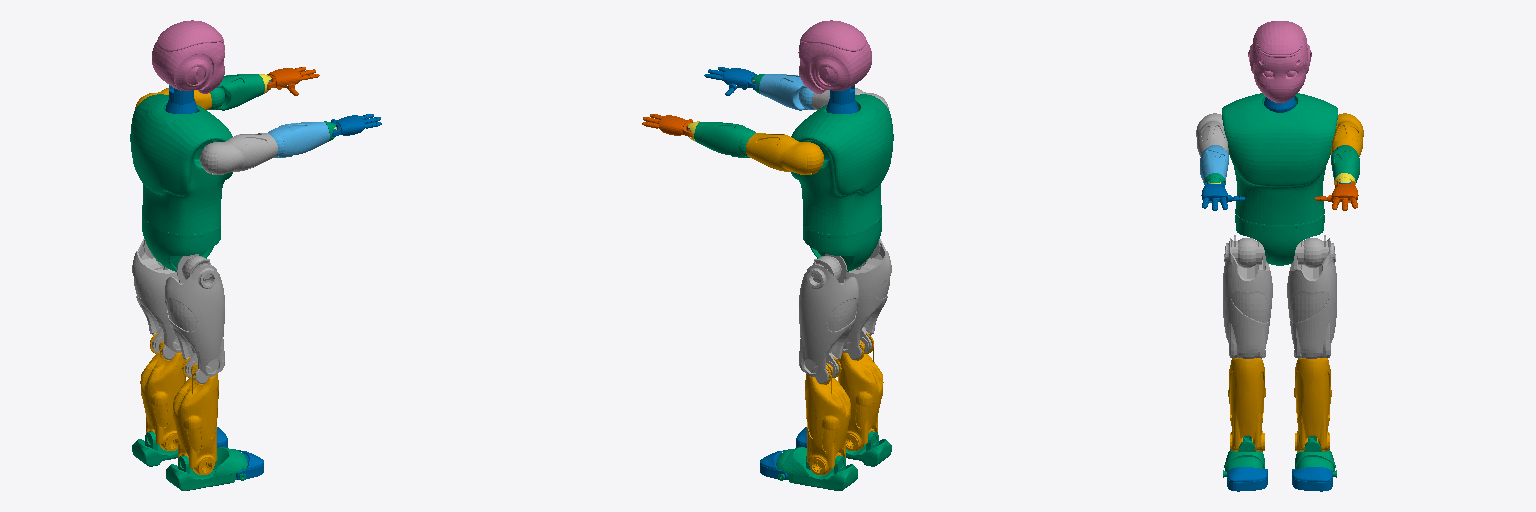
--- Render facts (derived) ---
The picture shows the robot from 3 angles, left to right: view 1: azimuth 30°, elevation 25°; view 2: azimuth 150°, elevation 25°; view 3: azimuth 270°, elevation 25°; orthographic projection.
Model romeo with 37 links and 36 joints (33 revolute, 3 fixed), rooted at base_link, posed every joint at zero.
Visible links, largest first — view 1: torso, RHipPitch_link, HeadRoll_link, RKneePitch_link, LKneePitch_link, LHipPitch_link, RShoulderYaw_link, r_ankle, RElbowYaw_link, LElbowYaw_link, l_ankle, l_wrist (+2 smaller); view 2: torso, LHipPitch_link, HeadRoll_link, LKneePitch_link, RKneePitch_link, RHipPitch_link, LShoulderYaw_link, l_ankle, LElbowYaw_link, RElbowYaw_link, r_ankle, r_wrist (+2 smaller); view 3: torso, LHipPitch_link, RHipPitch_link, HeadRoll_link, LKneePitch_link, RKneePitch_link, LShoulderYaw_link, RShoulderYaw_link, l_toe, r_toe, l_ankle, r_ankle (+4 smaller).
Link boxes in pixels (x1,y1,x2,y2): torso: (130, 94, 232, 271); RHipPitch_link: (165, 254, 224, 383); HeadRoll_link: (152, 20, 224, 93); RKneePitch_link: (173, 357, 218, 474); LKneePitch_link: (140, 333, 185, 450); LHipPitch_link: (132, 239, 180, 359); RShoulderYaw_link: (200, 133, 277, 174); r_ankle: (166, 447, 247, 490); RElbowYaw_link: (268, 122, 329, 157); LElbowYaw_link: (209, 74, 264, 110); l_ankle: (132, 431, 177, 466); l_wrist: (267, 67, 319, 95); torso: (791, 94, 893, 271); LHipPitch_link: (799, 254, 858, 383); HeadRoll_link: (798, 20, 871, 93); LKneePitch_link: (805, 357, 850, 474); RKneePitch_link: (838, 333, 883, 450); RHipPitch_link: (843, 239, 891, 359); LShoulderYaw_link: (746, 133, 823, 174); l_ankle: (776, 447, 857, 490); LElbowYaw_link: (694, 122, 755, 157); RElbowYaw_link: (759, 74, 814, 110); r_ankle: (846, 431, 891, 466); r_wrist: (704, 67, 756, 95); torso: (1222, 93, 1337, 265); LHipPitch_link: (1287, 235, 1336, 358); RHipPitch_link: (1223, 235, 1272, 358); HeadRoll_link: (1248, 21, 1311, 102); LKneePitch_link: (1294, 358, 1331, 451); RKneePitch_link: (1228, 358, 1265, 451); LShoulderYaw_link: (1331, 113, 1363, 156); RShoulderYaw_link: (1196, 113, 1228, 156); l_toe: (1292, 467, 1332, 491); r_toe: (1227, 467, 1267, 491); l_ankle: (1295, 436, 1336, 477); r_ankle: (1223, 436, 1264, 477).
Size in the robot's own frame: 0.6969 by 0.4903 by 1.43 metres.
21 mesh visuals loaded from 20 distinct referenced files (20 Collada DAE).

robot.urdf — romeo:
<?xml version="1.0"?>
<!--
   Aldebaran Robotics Romeo URDF model

   FIXME: fill missing data: sole, gripper and sensors
  -->
<robot xmlns:xacro="http://ros.org/wiki/xacro" name="romeo">
  <link name="base_link"/>

  <link name="body">
    <inertial>
      <origin xyz="0.00932 0.0005 -0.2119" rpy="0 0 0"/>
      <mass value="4.16277"/>
      <inertia ixx="0.24187936706" ixy="-6.889635e-05" ixz="0.00282915469" iyy="0.23816771319" iyz="0.00030625215" izz="0.02147385599" />
    </inertial>
  </link>

  <link name="torso">
    <inertial>
      <origin xyz="0.0023 0.00038 -0.04854" rpy="0 0 0"/>
      <mass value="9.9216"/>
      <inertia ixx="0.12933235299" ixy="-0.00035965149" ixz="0.00283888003" iyy="0.12683108985" iyz="-0.00200842624" izz="0.11062739082" />
    </inertial>
    <visual>
      <origin xyz="0 0 0" rpy="0 0 0" />
      <geometry>
	<mesh filename="package://romeo_description/meshes/Torso.dae" />
      </geometry>
    </visual>
    <collision>
      <origin xyz="0 0 0" rpy="0 0 0" />
      <geometry>
	<mesh filename="package://romeo_description/meshes/Torso.dae" />
      </geometry>
    </collision>
  </link>

  <link name="NeckYaw_link">
    <inertial>
      <origin xyz="0 -0.00183 -0.03074" rpy="0 0 0"/>
      <mass value="0.51016"/>
      <inertia ixx="0.00122158912" ixy="-8.014e-08" ixz="1.145e-08" iyy="0.00124607826" iyz="-1.84095e-06" izz="0.00018796505" />
    </inertial>
  </link>

  <link name="NeckPitch_link">
    <inertial>
      <origin xyz="-0.00472 -0.00054 0.04432" rpy="0 0 0"/>
      <mass value="0.23875"/>
      <inertia ixx="0.0008660225" ixy="-1.57263e-06" ixz="6.138255e-05" iyy="0.00081828666" iyz="9.69515e-06" izz="0.00023891895" />
    </inertial>
    <visual>
      <origin xyz="0 0 0" rpy="0 0 0" />
      <geometry>
	<mesh filename="package://romeo_description/meshes/NeckPitch.dae" />
      </geometry>
    </visual>
    <collision>
      <origin xyz="0 0 0" rpy="0 0 0" />
      <geometry>
	<mesh filename="package://romeo_description/meshes/NeckPitch.dae" />
      </geometry>
    </collision>
  </link>

  <link name="HeadPitch_link">
    <inertial>
      <origin xyz="0.00137 0.00027 -0.00641" rpy="0 0 0"/>
      <mass value="0.13981"/>
      <inertia ixx="3.89601e-05" ixy="-3.814e-08" ixz="-2.29622e-06" iyy="7.254653e-05" iyz="-6.46e-09" izz="5.376501e-05" />
    </inertial>
  </link>

  <link name="HeadRoll_link">
    <inertial>
      <origin xyz="0.01617 0.00168 0.0757" rpy="0 0 0"/>
      <mass value="1.41282"/>
      <inertia ixx="0.01490874108" ixy="-5.142093e-05" ixz="-0.00068489344" iyy="0.01731891079" iyz="-0.00019152738" izz="0.00735474589" />
    </inertial>
    <visual>
      <origin xyz="0 0 0" rpy="0 0 0" />
      <geometry>
	<mesh filename="package://romeo_description/meshes/HeadRoll.dae" />
      </geometry>
    </visual>
    <collision>
      <origin xyz="0 0 0" rpy="0 0 0" />
      <geometry>
	<mesh filename="package://romeo_description/meshes/HeadRoll.dae" />
      </geometry>
    </collision>
  </link>

  <link name="LShoulderPitch_link">
    <inertial>
      <origin xyz="0.00149 -0.03299 0.00018" rpy="0 0 0"/>
      <mass value="0.69402"/>
      <inertia ixx="0.00201004114" ixy="2.37595e-06" ixz="-2.16793e-06" iyy="0.00057062588" iyz="8.27832e-06" izz="0.00194067879" />
    </inertial>
  </link>

  <link name="LShoulderYaw_link">
    <inertial>
      <origin xyz="0.09367 0.01373 0.00103" rpy="0 0 0"/>
      <mass value="0.57151"/>
      <inertia ixx="0.00074281758" ixy="-0.00061767526" ixz="-7.28438e-05" iyy="0.00650202304" iyz="-1.251569e-05" izz="0.00664433886" />
    </inertial>
    <visual>
      <origin xyz="0 0 0" rpy="0 0 0" />
      <geometry>
	<mesh filename="package://romeo_description/meshes/LShoulderYaw.dae" />
      </geometry>
    </visual>
    <collision>
      <origin xyz="0 0 0" rpy="0 0 0" />
      <geometry>
	<mesh filename="package://romeo_description/meshes/LShoulderYaw.dae" />
      </geometry>
    </collision>
  </link>

  <link name="LElbowRoll_link">
    <inertial>
      <origin xyz="-0.02231 -0.0024 0" rpy="0 0 0"/>
      <mass value="0.39848"/>
      <inertia ixx="0.00017900324" ixy="-2.25555e-06" ixz="1.376e-08" iyy="0.00080432225" iyz="8.007e-08" izz="0.00077956048" />
    </inertial>
  </link>

  <link name="LElbowYaw_link">
    <inertial>
      <origin xyz="0.06738 0.01043 -0.00031" rpy="0 0 0"/>
      <mass value="0.31265"/>
      <inertia ixx="0.00037509574" ixy="-0.00022528338" ixz="2.58073e-06" iyy="0.00209727597" iyz="2.74613e-06" izz="0.00211064798" />
    </inertial>
    <visual>
      <origin xyz="0 0 0" rpy="0 0 0" />
      <geometry>
	<mesh filename="package://romeo_description/meshes/LElbowYaw.dae" />
      </geometry>
    </visual>
    <collision>
      <origin xyz="0 0 0" rpy="0 0 0" />
      <geometry>
	<mesh filename="package://romeo_description/meshes/LElbowYaw.dae" />
      </geometry>
    </collision>
  </link>

  <link name="LWristRoll_link">
    <inertial>
      <origin xyz="-0.0593 -5e-05 -0.00069" rpy="0 0 0"/>
      <mass value="0.17563"/>
      <inertia ixx="6.721454e-05" ixy="-6.373e-07" ixz="-1.358095e-05" iyy="0.00085119568" iyz="-2.443e-08" izz="0.00084034753" />
    </inertial>
    <visual>
      <origin xyz="0 0 0" rpy="0 0 0" />
      <geometry>
	<mesh filename="package://romeo_description/meshes/LWristRoll.dae" />
      </geometry>
    </visual>
    <collision>
      <origin xyz="0 0 0" rpy="0 0 0" />
      <geometry>
	<mesh filename="package://romeo_description/meshes/LWristRoll.dae" />
      </geometry>
    </collision>
  </link>

  <link name="LWristYaw_link">
    <inertial>
      <origin xyz="-0.00746 -0.00016 -0.00022" rpy="0 0 0"/>
      <mass value="0.07595"/>
      <inertia ixx="1.454017e-05" ixy="-4.157e-08" ixz="7.674e-08" iyy="3.919069e-05" iyz="3.08e-09" izz="3.817871e-05" />
    </inertial>
    <visual>
      <origin xyz="0 0 0" rpy="0 0 0" />
      <geometry>
	<mesh filename="package://romeo_description/meshes/WristYaw.dae" />
      </geometry>
    </visual>
    <collision>
      <origin xyz="0 0 0" rpy="0 0 0" />
      <geometry>
	<mesh filename="package://romeo_description/meshes/WristYaw.dae" />
      </geometry>
    </collision>
  </link>

  <link name="l_wrist">
    <inertial>
      <origin xyz="0.06987 -0.00381 -0.00165" rpy="0 0 0"/>
      <mass value="0.16569"/>
      <inertia ixx="0.00011252888" ixy="4.725831e-05" ixz="1.704036e-05" iyy="0.00107981778" iyz="-1.54761e-05" izz="0.00115367043" />
    </inertial>
    <visual>
      <origin xyz="0 0 0" rpy="0 0 0" />
      <geometry>
	<mesh filename="package://romeo_description/meshes/LHand.dae" />
      </geometry>
    </visual>
    <collision>
      <origin xyz="0 0 0" rpy="0 0 0" />
      <geometry>
	<mesh filename="package://romeo_description/meshes/LHand.dae" />
      </geometry>
    </collision>
  </link>

  <link name="RShoulderPitch_link">
    <inertial>
      <origin xyz="0.00149 0.03299 -0.00018" rpy="0 0 0"/>
      <mass value="0.69402"/>
      <inertia ixx="0.00201004114" ixy="-2.37595e-06" ixz="2.16793e-06" iyy="0.00057062588" iyz="8.27832e-06" izz="0.00194067879" />
    </inertial>
  </link>

  <link name="RShoulderYaw_link">
    <inertial>
      <origin xyz="0.0937 -0.01373 -0.00069" rpy="0 0 0"/>
      <mass value="0.57071"/>
      <inertia ixx="0.00074235595" ixy="0.00061720176" ixz="5.985213e-06" iyy="0.00649988502" iyz="-1.074174e-06" izz="0.000664209089" />
    </inertial>
    <visual>
      <origin xyz="0 0 0" rpy="0 0 0" />
      <geometry>
	<mesh filename="package://romeo_description/meshes/RShoulderYaw.dae" />
      </geometry>
    </visual>
    <collision>
      <origin xyz="0 0 0" rpy="0 0 0" />
      <geometry>
	<mesh filename="package://romeo_description/meshes/RShoulderYaw.dae" />
      </geometry>
    </collision>
  </link>

  <link name="RElbowRoll_link">
    <inertial>
      <origin xyz="-0.02231 -0.0024 0" rpy="0 0 0"/>
      <mass value="0.39848"/>
      <inertia ixx="0.00017900324" ixy="-2.25555e-06" ixz="1.376e-08" iyy="0.00080432225" iyz="8.007e-08" izz="0.00077956048" />
    </inertial>
  </link>

  <link name="RElbowYaw_link">
    <inertial>
      <origin xyz="0.06753 -0.00889 0.00022" rpy="0 0 0"/>
      <mass value="0.31403"/>
      <inertia ixx="0.00036672778" ixy="0.00018563123" ixz="-5.37905e-07" iyy="0.00211103842" iyz="3.1932e-07" izz="0.000211493035" />
    </inertial>
    <visual>
      <origin xyz="0 0 0" rpy="0 0 0" />
      <geometry>
	<mesh filename="package://romeo_description/meshes/RElbowYaw.dae" />
      </geometry>
    </visual>
    <collision>
      <origin xyz="0 0 0" rpy="0 0 0" />
      <geometry>
	<mesh filename="package://romeo_description/meshes/RElbowYaw.dae" />
      </geometry>
    </collision>
  </link>

  <link name="RWristRoll_link">
    <inertial>
      <origin xyz="-0.0593 -5e-05 -0.00069" rpy="0 0 0"/>
      <mass value="0.17563"/>
      <inertia ixx="6.721454e-05" ixy="-6.373e-07" ixz="-1.358095e-05" iyy="0.00085119568" iyz="-2.443e-08" izz="0.00084034753" />
    </inertial>
    <visual>
      <origin xyz="0 0 0" rpy="0 0 0" />
      <geometry>
	<mesh filename="package://romeo_description/meshes/RWristRoll.dae" />
      </geometry>
    </visual>
    <collision>
      <origin xyz="0 0 0" rpy="0 0 0" />
      <geometry>
	<mesh filename="package://romeo_description/meshes/RWristRoll.dae" />
      </geometry>
    </collision>
  </link>

  <link name="RWristYaw_link">
    <inertial>
      <origin xyz="-0.00746 -0.00016 -0.00022" rpy="0 0 0"/>
      <mass value="0.07595"/>
      <inertia ixx="1.454017e-05" ixy="-4.157e-08" ixz="7.674e-08" iyy="3.919069e-05" iyz="3.08e-09" izz="3.817871e-05" />
    </inertial>
    <visual>
      <origin xyz="0 0 0" rpy="0 0 0" />
      <geometry>
	<mesh filename="package://romeo_description/meshes/WristYaw.dae" />
      </geometry>
    </visual>
    <collision>
      <origin xyz="0 0 0" rpy="0 0 0" />
      <geometry>
	<mesh filename="package://romeo_description/meshes/WristYaw.dae" />
      </geometry>
    </collision>
  </link>

  <link name="r_wrist">
    <inertial>
      <origin xyz="0.06987 0.00381 -0.00165" rpy="0 0 0"/>
      <mass value="0.16569"/>
      <inertia ixx="0.00011252888" ixy="0" ixz="0" iyy="0.00107981778" iyz="0" izz="0.00115367043" />
    </inertial>
    <visual>
      <origin xyz="0 0 0" rpy="0 0 0" />
      <geometry>
	<mesh filename="package://romeo_description/meshes/RHand.dae" />
      </geometry>
    </visual>
    <collision>
      <origin xyz="0 0 0" rpy="0 0 0" />
      <geometry>
	<mesh filename="package://romeo_description/meshes/RHand.dae" />
      </geometry>
    </collision>
  </link>

  <link name="LHipYaw_link">
    <inertial>
      <origin xyz="-0.00871 -0.00022 0.06319" rpy="0 0 0"/>
      <mass value="0.49477"/>
      <inertia ixx="0.00303667904" ixy="0" ixz="0" iyy="0.0034799778" iyz="0" izz="0.00062277265" />
    </inertial>
  </link>

  <link name="LHipRoll_link">
    <inertial>
      <origin xyz="0.00293 -0.00027 0.00011" rpy="0 0 0"/>
      <mass value="0.6607"/>
      <inertia ixx="0.00089862024" ixy="0" ixz="0" iyy="0.00050955901" iyz="0" izz="0.00093539188" />
    </inertial>
  </link>

  <link name="LHipPitch_link">
    <inertial>
      <origin xyz="-0.00971 0.00135 -0.15083" rpy="0 0 0"/>
      <mass value="4.33935"/>
      <inertia ixx="0.13289504951" ixy="0" ixz="0" iyy="0.13397739558" iyz="0" izz="0.01216872585" />
    </inertial>
    <visual>
      <origin xyz="0 0 0" rpy="0 0 0" />
      <geometry>
	<mesh filename="package://romeo_description/meshes/LHipPitch.dae" />
      </geometry>
    </visual>
    <collision>
      <origin xyz="0 0 0" rpy="0 0 0" />
      <geometry>
	<mesh filename="package://romeo_description/meshes/LHipPitch.dae" />
      </geometry>
    </collision>
  </link>

  <link name="LKneePitch_link">
    <inertial>
      <origin xyz="-0.00532 -0.00075 -0.12258" rpy="0 0 0"/>
      <mass value="2.61063"/>
      <inertia ixx="0.05491303061" ixy="0" ixz="0" iyy="0.05496634755" iyz="0" izz="0.00398481696" />
    </inertial>
    <visual>
      <origin xyz="0 0 0" rpy="0 0 0" />
      <geometry>
	<mesh filename="package://romeo_description/meshes/LKneePitch.dae" />
      </geometry>
    </visual>
    <collision>
      <origin xyz="0 0 0" rpy="0 0 0" />
      <geometry>
	<mesh filename="package://romeo_description/meshes/LKneePitch.dae" />
      </geometry>
    </collision>
  </link>

  <link name="LAnklePitch_link">
    <inertial>
      <origin xyz="0.00059 0.00051 0.00038" rpy="0 0 0"/>
      <mass value="0.5008"/>
      <inertia ixx="0.00042995195" ixy="0" ixz="0" iyy="0.00028145145" iyz="0" izz="0.00052766479" />
    </inertial>
  </link>

  <link name="l_ankle">
    <inertial>
      <origin xyz="0.02618 0.00259 -0.03683" rpy="0 0 0"/>
      <mass value="0.64224"/>
      <inertia ixx="0.00139908277" ixy="0" ixz="0" iyy="0.00349259103" iyz="0" izz="0.00266359477" />
    </inertial>
    <visual>
      <origin xyz="0 0 0" rpy="0 0 0" />
      <geometry>
	<mesh filename="package://romeo_description/meshes/LAnkleRoll.dae" />
      </geometry>
    </visual>
    <collision>
      <origin xyz="0 0 0" rpy="0 0 0" />
      <geometry>
	<mesh filename="package://romeo_description/meshes/LAnkleRoll.dae" />
      </geometry>
    </collision>
  </link>
  <link name="l_sole"/>

  <link name="l_toe">
    <inertial>
      <origin xyz="0.01636 -0.00167 -0.00812" rpy="0 0 0"/>
      <mass value="0.2889"/>
      <inertia ixx="0.00025411726" ixy="0" ixz="0" iyy="0.00029543601" iyz="0" izz="0.0004436638" />
    </inertial>
    <visual>
      <origin xyz="0 0 0" rpy="0 0 0" />
      <geometry>
	<mesh filename="package://romeo_description/meshes/LToePitch.dae" />
      </geometry>
    </visual>
    <collision>
      <origin xyz="0 0 0" rpy="0 0 0" />
      <geometry>
	<mesh filename="package://romeo_description/meshes/LToePitch.dae" />
      </geometry>
    </collision>
  </link>

  <link name="RHipYaw_link">
    <inertial>
      <origin xyz="-0.00871 0.00022 0.06319" rpy="0 0 0"/>
      <mass value="0.49477"/>
      <inertia ixx="0.00303667904" ixy="0" ixz="0" iyy="0.0034799778" iyz="0" izz="0.00062277265" />
    </inertial>
  </link>

  <link name="RHipRoll_link">
    <inertial>
      <origin xyz="0.00293 -0.00027 0.00011" rpy="0 0 0"/>
      <mass value="0.6607"/>
      <inertia ixx="0.00089862024" ixy="0" ixz="0" iyy="0.00050955901" iyz="0" izz="0.00093539188" />
    </inertial>
  </link>

  <link name="RHipPitch_link">
    <inertial>
      <origin xyz="-0.00971 -0.00135 -0.15083" rpy="0 0 0"/>
      <mass value="4.33935"/>
      <inertia ixx="0.13289504951" ixy="0" ixz="0" iyy="0.13397739558" iyz="0" izz="0.01216872585" />
    </inertial>
    <visual>
      <origin xyz="0 0 0" rpy="0 0 0" />
      <geometry>
	<mesh filename="package://romeo_description/meshes/RHipPitch.dae" />
      </geometry>
    </visual>
    <collision>
      <origin xyz="0 0 0" rpy="0 0 0" />
      <geometry>
	<mesh filename="package://romeo_description/meshes/RHipPitch.dae" />
      </geometry>
    </collision>
  </link>

  <link name="RKneePitch_link">
    <inertial>
      <origin xyz="-0.00532 0.00075 -0.12258" rpy="0 0 0"/>
      <mass value="2.61063"/>
      <inertia ixx="0.05491303061" ixy="0" ixz="0" iyy="0.05496634755" iyz="0" izz="0.00398481696" />
    </inertial>
    <visual>
      <origin xyz="0 0 0" rpy="0 0 0" />
      <geometry>
	<mesh filename="package://romeo_description/meshes/RKneePitch.dae" />
      </geometry>
    </visual>
    <collision>
      <origin xyz="0 0 0" rpy="0 0 0" />
      <geometry>
	<mesh filename="package://romeo_description/meshes/RKneePitch.dae" />
      </geometry>
    </collision>
  </link>

  <link name="RAnklePitch_link">
    <inertial>
      <origin xyz="0.00059 -0.00051 0.00038" rpy="0 0 0"/>
      <mass value="0.5008"/>
      <inertia ixx="0.00042995195" ixy="0" ixz="0" iyy="0.00028145145" iyz="0" izz="0.00052766479" />
    </inertial>
  </link>

  <link name="r_ankle">
    <inertial>
      <origin xyz="0.02618 -0.00259 -0.03683" rpy="0 0 0"/>
      <mass value="0.64224"/>
      <inertia ixx="0.00139908277" ixy="0" ixz="0" iyy="0.00349259103" iyz="0" izz="0.00266359477" />
    </inertial>
    <visual>
      <origin xyz="0 0 0" rpy="0 0 0" />
      <geometry>
	<mesh filename="package://romeo_description/meshes/RAnkleRoll.dae" />
      </geometry>
    </visual>
    <collision>
      <origin xyz="0 0 0" rpy="0 0 0" />
      <geometry>
	<mesh filename="package://romeo_description/meshes/RAnkleRoll.dae" />
      </geometry>
    </collision>
  </link>
  <link name="r_sole"/>

  <link name="r_toe">
    <inertial>
      <origin xyz="0.01636 0.00167 -0.00812" rpy="0 0 0"/>
      <mass value="0.2889"/>
      <inertia ixx="0.00025411726" ixy="0" ixz="0" iyy="0.00029543601" iyz="0" izz="0.0004436638" />
    </inertial>
    <visual>
      <origin xyz="0 0 0" rpy="0 0 0" />
      <geometry>
	<mesh filename="package://romeo_description/meshes/RToePitch.dae" />
      </geometry>
    </visual>
    <collision>
      <origin xyz="0 0 0" rpy="0 0 0" />
      <geometry>
	<mesh filename="package://romeo_description/meshes/RToePitch.dae" />
      </geometry>
    </collision>
  </link>



  <!--   Joints following below -->

  <joint name="waist" type="fixed">
    <parent link="base_link"/>
    <child link="body"/>
    <origin xyz="0 0 0" rpy="0 0 0"/>
  </joint>
  <joint name="TrunkYaw" type="revolute">
    <origin xyz="-0 -0 0.2" rpy="0 0 0"/>
    <axis xyz="0 0 1"/>
    <parent link="body"/>
    <child link="torso"/>
    <limit effort="30" lower="-0.78539815" upper="0.78539815" velocity="0" />
  </joint>

  <joint name="NeckYaw" type="revolute">
    <origin xyz="0 0 0.0835" rpy="0 0 0"/>
    <axis xyz="0 0 1"/>
    <parent link="torso"/>
    <child link="NeckYaw_link"/>
    <limit effort="30" lower="-1.5707963" upper="1.5707963" velocity="5.8886917" />
  </joint>

  <joint name="NeckPitch" type="revolute">
    <origin xyz="0 0 0" rpy="0 0 0"/>
    <axis xyz="0 1 0"/>
    <parent link="NeckYaw_link"/>
    <child link="NeckPitch_link"/>
    <limit effort="30" lower="-0.698131688888889" upper="0.698131688888889" velocity="6.17848" />
  </joint>

  <joint name="HeadPitch" type="revolute">
    <origin xyz="0 0 0.09511" rpy="0 0 0"/>
    <axis xyz="0 1 0"/>
    <parent link="NeckPitch_link"/>
    <child link="HeadPitch_link"/>
    <limit effort="30" lower="-0.289724650888889" upper="0.349065844444444" velocity="7.2988824" />
  </joint>

  <joint name="HeadRoll" type="revolute">
    <origin xyz="0 0 0" rpy="0 0 0"/>
    <axis xyz="1 0 0"/>
    <parent link="HeadPitch_link"/>
    <child link="HeadRoll_link"/>
    <limit effort="30" lower="-0.523598766666667" upper="0.523598766666667" velocity="4.7442645" />
  </joint>

  <joint name="LShoulderPitch" type="revolute">
    <origin xyz="0.005 0.19 0" rpy="0 0 0"/>
    <axis xyz="0 1 0"/>
    <parent link="torso"/>
    <child link="LShoulderPitch_link"/>
    <limit effort="30" lower="-1.51843642333333" upper="2.09439506666667" velocity="6.52664058" />
  </joint>

  <joint name="LShoulderYaw" type="revolute">
    <origin xyz="0 0 0" rpy="0 0 0"/>
    <axis xyz="0 0 1"/>
    <parent link="LShoulderPitch_link"/>
    <child link="LShoulderYaw_link"/>
    <limit effort="30" lower="-0.200712860555556" upper="1.43989660833333" velocity="10.333784" />
  </joint>

  <joint name="LElbowRoll" type="revolute">
    <origin xyz="0.205 0 0" rpy="0 0 0"/>
    <axis xyz="1 0 0"/>
    <parent link="LShoulderYaw_link"/>
    <child link="LElbowRoll_link"/>
    <limit effort="30" lower="-2.60054054111111" upper="1.39626337777778" velocity="10.333784" />
  </joint>

  <joint name="LElbowYaw" type="revolute">
    <origin xyz="0 0 0" rpy="0 0 0"/>
    <axis xyz="0 0 1"/>
    <parent link="LElbowRoll_link"/>
    <child link="LElbowYaw_link"/>
    <limit effort="30" lower="-1.5707963" upper="0.401425721111111" velocity="10.3810644" />
  </joint>

  <joint name="LWristRoll" type="revolute">
    <origin xyz="0.182 0 0" rpy="0 0 0"/>
    <axis xyz="1 0 0"/>
    <parent link="LElbowYaw_link"/>
    <child link="LWristRoll_link"/>
    <limit effort="30" lower="-3.66519136666667" upper="0.523598766666667" velocity="0" />
  </joint>

  <joint name="LWristYaw" type="revolute">
    <origin xyz="0 0 0" rpy="0 0 0"/>
    <axis xyz="0 1 0"/>
    <parent link="LWristRoll_link"/>
    <child link="LWristYaw_link"/>
    <limit effort="30" lower="-0.488692182222222" upper="0.488692182222222" velocity="0" />
  </joint>

  <joint name="LWristPitch" type="revolute">
    <origin xyz="0 0 0" rpy="0 0 0"/>
    <axis xyz="0 0 1"/>
    <parent link="LWristYaw_link"/>
    <child link="l_wrist"/>
    <limit effort="30" lower="-0.977384364444444" upper="0.977384364444444" velocity="0" />
  </joint>

  <joint name="RShoulderPitch" type="revolute">
    <origin xyz="0.005 -0.19 0" rpy="0 0 0"/>
    <axis xyz="0 1 0"/>
    <parent link="torso"/>
    <child link="RShoulderPitch_link"/>
    <limit effort="30" lower="-1.51843642333333" upper="2.09439506666667" velocity="6.52664058" />
  </joint>

  <joint name="RShoulderYaw" type="revolute">
    <origin xyz="0 0 0" rpy="0 0 0"/>
    <axis xyz="0 0 1"/>
    <parent link="RShoulderPitch_link"/>
    <child link="RShoulderYaw_link"/>
    <limit effort="30" lower="-1.43989660833333" upper="0.200712860555556" velocity="10.333784" />
  </joint>

  <joint name="RElbowRoll" type="revolute">
    <origin xyz="0.205 0 0" rpy="0 0 0"/>
    <axis xyz="1 0 0"/>
    <parent link="RShoulderYaw_link"/>
    <child link="RElbowRoll_link"/>
    <limit effort="30" lower="-1.39626337777778" upper="2.60054054111111" velocity="10.333784" />
  </joint>

  <joint name="RElbowYaw" type="revolute">
    <origin xyz="0 0 0" rpy="0 0 0"/>
    <axis xyz="0 0 1"/>
    <parent link="RElbowRoll_link"/>
    <child link="RElbowYaw_link"/>
    <limit effort="30" lower="-0.401425721111111" upper="1.5707963" velocity="10.3810644" />
  </joint>

  <joint name="RWristRoll" type="revolute">
    <origin xyz="0.182 0 0" rpy="0 0 0"/>
    <axis xyz="1 0 0"/>
    <parent link="RElbowYaw_link"/>
    <child link="RWristRoll_link"/>
    <limit effort="30" lower="-0.523598766666667" upper="3.66519136666667" velocity="0" />
  </joint>

  <joint name="RWristYaw" type="revolute">
    <origin xyz="0 0 0" rpy="0 0 0"/>
    <axis xyz="0 1 0"/>
    <parent link="RWristRoll_link"/>
    <child link="RWristYaw_link"/>
    <limit effort="30" lower="-0.488692182222222" upper="0.488692182222222" velocity="0" />
  </joint>

  <joint name="RWristPitch" type="revolute">
    <origin xyz="0 0 0" rpy="0 0 0"/>
    <axis xyz="0 0 1"/>
    <parent link="RWristYaw_link"/>
    <child link="r_wrist"/>
    <limit effort="30" lower="-0.977384364444444" upper="0.977384364444444" velocity="0" />
  </joint>

  <joint name="LHipYaw" type="revolute">
    <origin xyz="0 0.096 -0.20004" rpy="0 0 0"/>
    <axis xyz="0 0 1"/>
    <parent link="body"/>
    <child link="LHipYaw_link"/>
    <limit effort="30" lower="-0.261799383333333" upper="0.261799383333333" velocity="8.082461" />
  </joint>

  <joint name="LHipRoll" type="revolute">
    <origin xyz="0 0 0" rpy="0 0 0"/>
    <axis xyz="1 0 0"/>
    <parent link="LHipYaw_link"/>
    <child link="LHipRoll_link"/>
    <limit effort="30" lower="-0.261799383333333" upper="0.523598766666667" velocity="10.289294" />
  </joint>

  <joint name="LHipPitch" type="revolute">
    <origin xyz="0 0 0" rpy="0 0 0"/>
    <axis xyz="0 1 0"/>
    <parent link="LHipRoll_link"/>
    <child link="LHipPitch_link"/>
    <limit effort="30" lower="-1.71042263777778" upper="0.523598766666667" velocity="6.7799634" />
  </joint>

  <joint name="LKneePitch" type="revolute">
    <origin xyz="0 0 -0.32" rpy="0 0 0"/>
    <axis xyz="0 1 0"/>
    <parent link="LHipPitch_link"/>
    <child link="LKneePitch_link"/>
    <limit effort="30" lower="-0.0523598766666667" upper="2.25147469666667" velocity="8.27600953" />
  </joint>

  <joint name="LAnklePitch" type="revolute">
    <origin xyz="0 0 -0.29" rpy="0 0 0"/>
    <axis xyz="0 1 0"/>
    <parent link="LKneePitch_link"/>
    <child link="LAnklePitch_link"/>
    <limit effort="30" lower="-0.78539815" upper="0.523598766666667" velocity="6.7799634" />
  </joint>

  <joint name="LAnkleRoll" type="revolute">
    <origin xyz="0 0 0" rpy="0 0 0"/>
    <axis xyz="1 0 0"/>
    <parent link="LAnklePitch_link"/>
    <child link="l_ankle"/>
    <limit effort="30" lower="-0.349065844444444" upper="0.349065844444444" velocity="10.28929" />
  </joint>

  <joint name="LToePitch" type="revolute">
    <origin xyz="0.1135 0 -0.0524" rpy="0 0 0"/>
    <axis xyz="0 1 0"/>
    <parent link="l_ankle"/>
    <child link="l_toe"/>
    <limit effort="30" lower="-0.78539815" upper="0" velocity="0" />
  </joint>

  <joint name="RHipYaw" type="revolute">
    <origin xyz="0 -0.096 -0.20004" rpy="0 0 0"/>
    <axis xyz="0 0 1"/>
    <parent link="body"/>
    <child link="RHipYaw_link"/>
    <limit effort="30" lower="-0.261799383333333" upper="0.261799383333333" velocity="8.082461" />
  </joint>

  <joint name="RHipRoll" type="revolute">
    <origin xyz="0 0 0" rpy="0 0 0"/>
    <axis xyz="1 0 0"/>
    <parent link="RHipYaw_link"/>
    <child link="RHipRoll_link"/>
    <limit effort="30" lower="-0.523598766666667" upper="0.261799383333333" velocity="10.289294" />
  </joint>

  <joint name="RHipPitch" type="revolute">
    <origin xyz="0 0 0" rpy="0 0 0"/>
    <axis xyz="0 1 0"/>
    <parent link="RHipRoll_link"/>
    <child link="RHipPitch_link"/>
    <limit effort="30" lower="-1.71042263777778" upper="0.523598766666667" velocity="6.7799634" />
  </joint>

  <joint name="RKneePitch" type="revolute">
    <origin xyz="0 0 -0.32" rpy="0 0 0"/>
    <axis xyz="0 1 0"/>
    <parent link="RHipPitch_link"/>
    <child link="RKneePitch_link"/>
    <limit effort="30" lower="-0.0523598766666667" upper="2.25147469666667" velocity="8.27600953" />
  </joint>

  <joint name="RAnklePitch" type="revolute">
    <origin xyz="0 0 -0.29" rpy="0 0 0"/>
    <axis xyz="0 1 0"/>
    <parent link="RKneePitch_link"/>
    <child link="RAnklePitch_link"/>
    <limit effort="30" lower="-0.78539815" upper="0.523598766666667" velocity="6.7799634" />
  </joint>

  <joint name="RAnkleRoll" type="revolute">
    <origin xyz="0 0 0" rpy="0 0 0"/>
    <axis xyz="1 0 0"/>
    <parent link="RAnklePitch_link"/>
    <child link="r_ankle"/>
    <limit effort="30" lower="-0.349065844444444" upper="0.349065844444444" velocity="10.28929" />
  </joint>

  <joint name="RToePitch" type="revolute">
    <origin xyz="0.1135 0 -0.0524" rpy="0 0 0"/>
    <axis xyz="0 1 0"/>
    <parent link="r_ankle"/>
    <child link="r_toe"/>
    <limit effort="30" lower="-0.78539815" upper="0" velocity="0" />
  </joint>

  <joint name="l_sole_joint" type="fixed">
    <parent link="l_ankle"/>
    <child link="l_sole"/>
    <origin xyz="0 0 -0.067" rpy="0 0 0"/>
  </joint>
  <joint name="r_sole_joint" type="fixed">
    <parent link="r_ankle"/>
    <child link="r_sole"/>
    <origin xyz="0 0 -0.067" rpy="0 0 0"/>
  </joint>
</robot>
